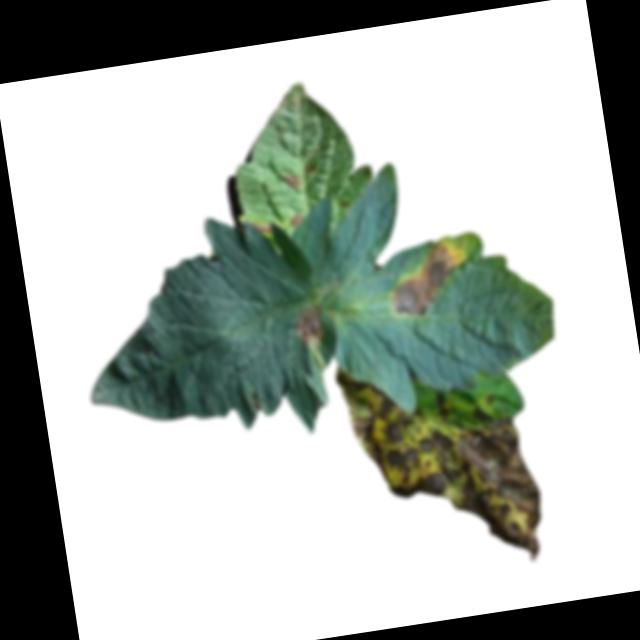Early_blight: (335, 346, 549, 581), (380, 239, 467, 322), (293, 304, 324, 345), (245, 215, 271, 235), (280, 171, 303, 193), (287, 211, 303, 226)
